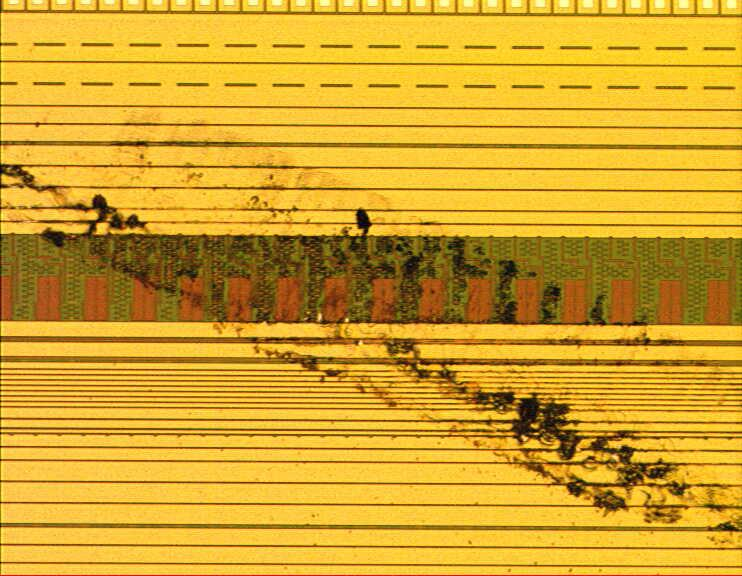SCRATCH: (1, 97, 742, 555)
